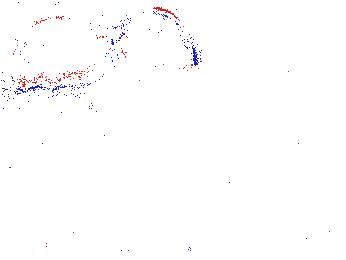moon jellyfish: (10, 22, 107, 91), (114, 8, 196, 69)
